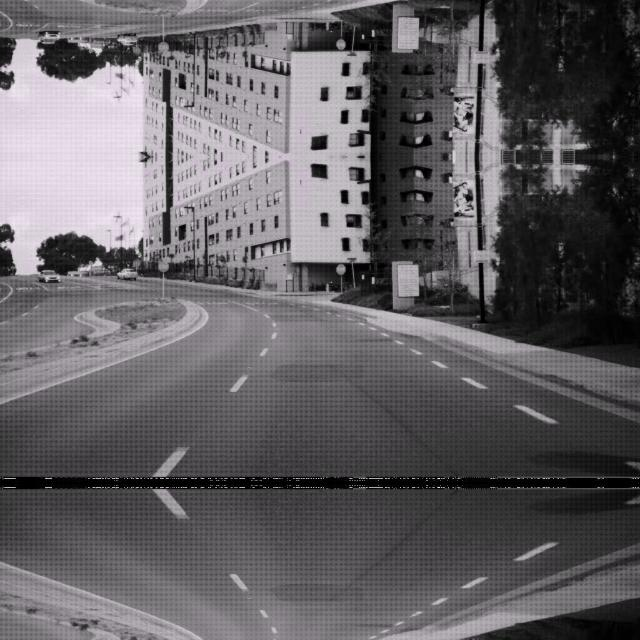stop: (335, 262, 345, 274), (335, 39, 345, 50), (158, 260, 168, 270), (158, 42, 168, 52)
